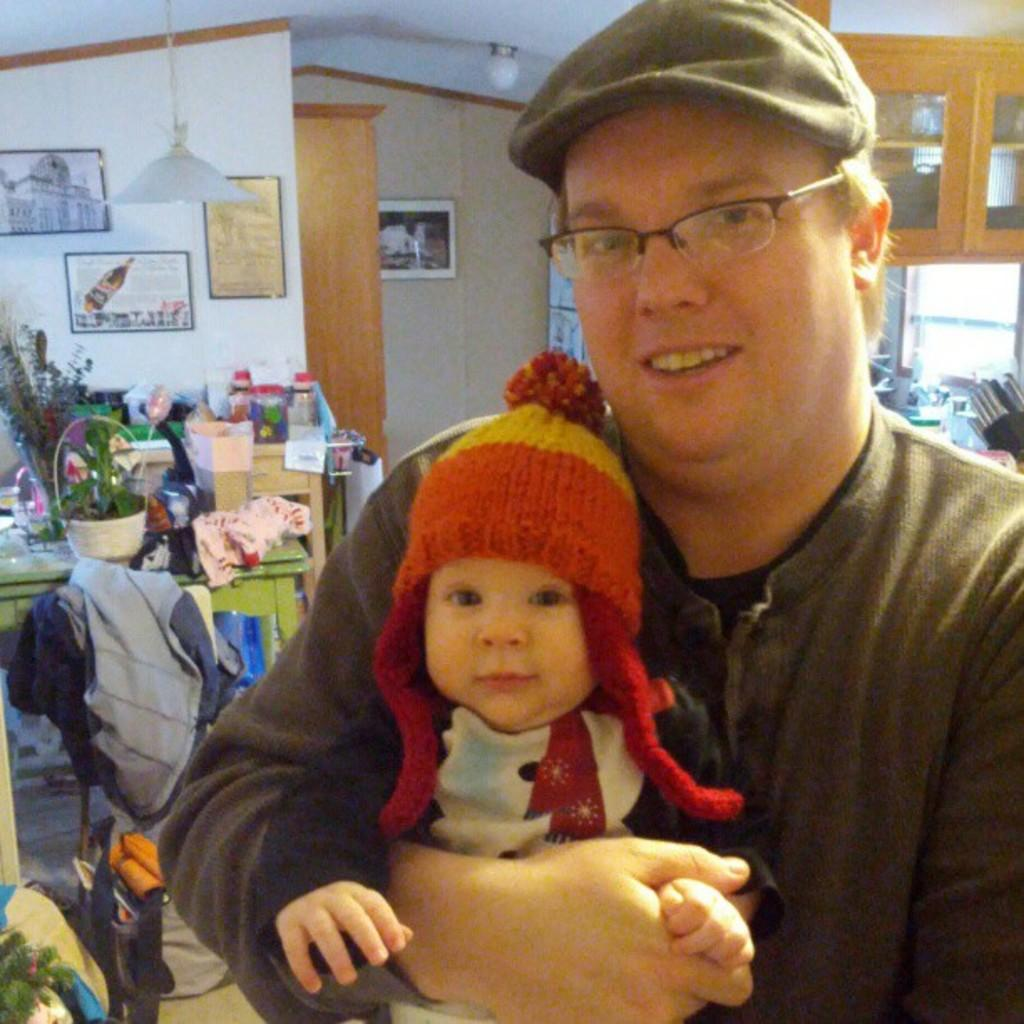Hat: (505, 0, 876, 189)
